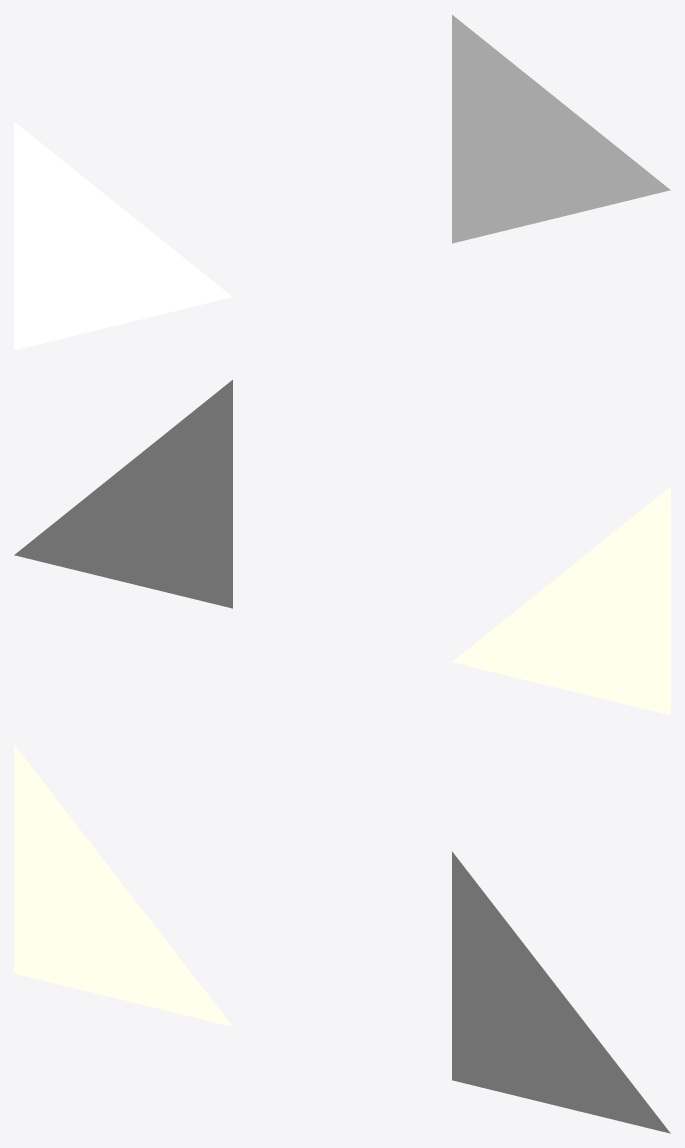
File: emissive.glb
The picture shows the model from 3 angles, top to bottom: view 1: azimuth 30°, elevation 25°; view 2: azimuth 150°, elevation 25°; view 3: azimuth 330°, elevation 25°; orthographic projection.
Visible parts, largest first — view 1: bulb, plain; view 2: bulb, plain; view 3: bulb, plain.
Part boxes in pixels (x1,y1,x2,y2): bulb: (14,121,232,350); plain: (452,15,670,243); bulb: (452,486,670,715); plain: (14,380,232,608); bulb: (14,744,232,1026); plain: (452,851,670,1133).
Bounding box in the file's own units: 3 × 1 × 0.
